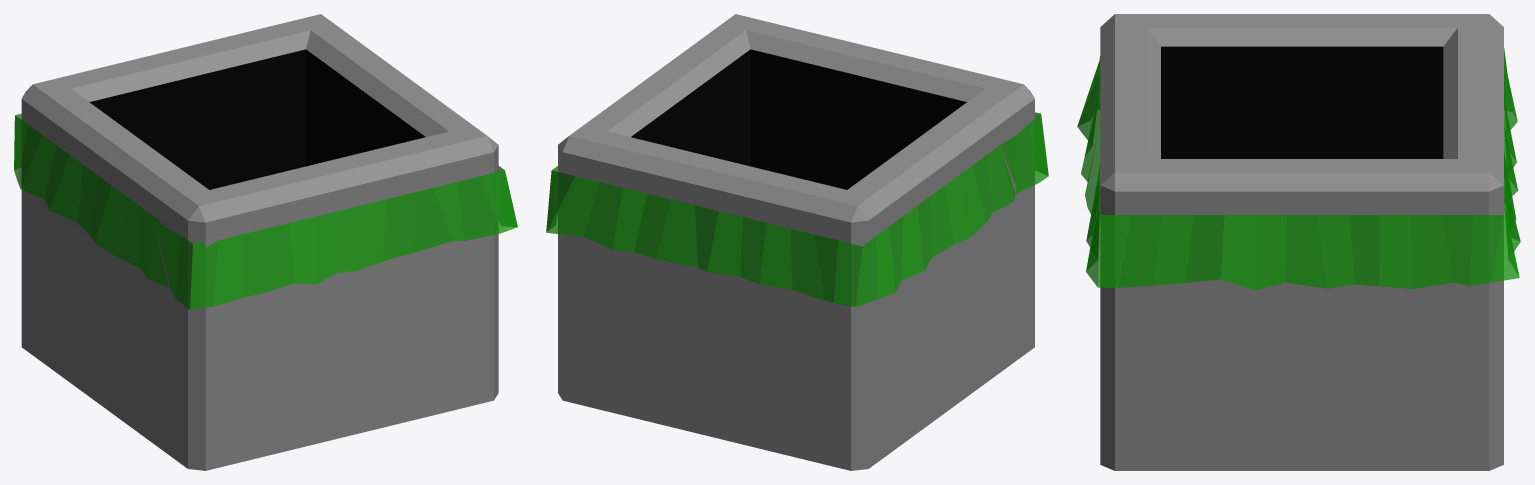
The model's file is Trash 2.fbx.
3 renders of one model, left to right at view 1: azimuth 30°, elevation 25°; view 2: azimuth 150°, elevation 25°; view 3: azimuth 270°, elevation 25°, orthographic. The views are drawn at different scales.
Parts seen in each view (by area): view 1: Bin; view 2: Bin; view 3: Bin.
Boxes of the visible parts, x1,y1,x2,y2 form: Bin: (14,14,517,470); Bin: (546,14,1048,470); Bin: (1077,14,1520,470).
Bounding box in the file's own units: 109 × 80 × 110.
